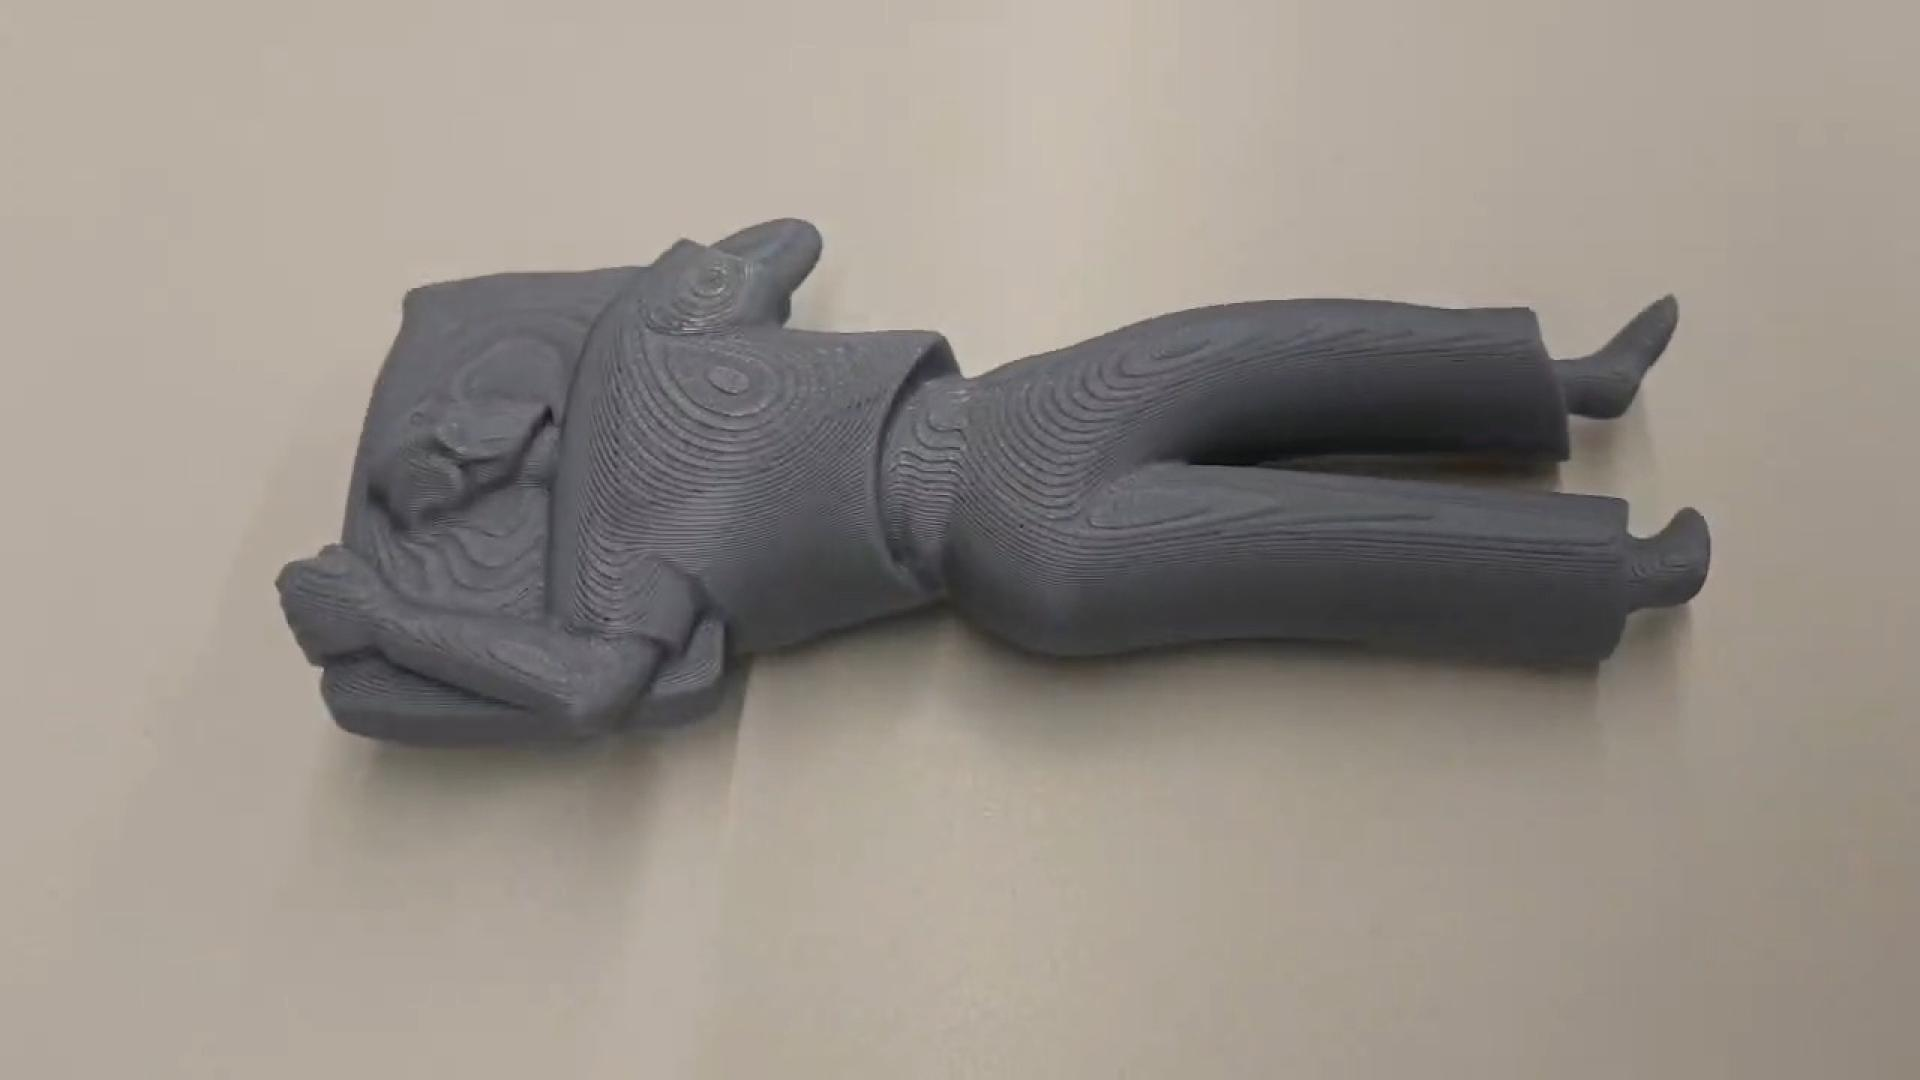Bad-style: (276, 212, 1720, 766)
